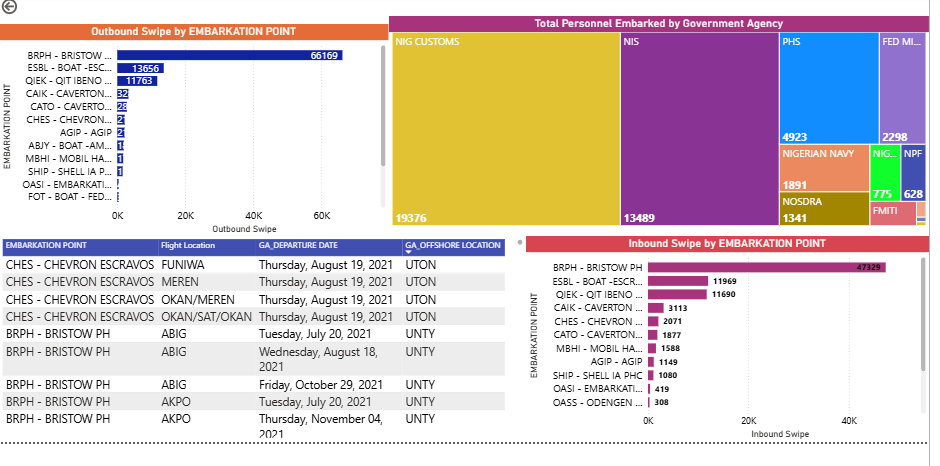

The page's visual inventory and layout, read from the dashboard file:
{"tool":"powerbi","page":{"name":"Page 2","canvas":[1502,720],"ordinal":1},"visuals":[{"type":"treemap","title":"Total Personnel Embarked by Government Agency","fields":{"Group":["Master.GOVERNMENT AGENCY"],"Values":["Sum(Master.Total Personnel Embarked)"]},"box":[629.5,33.1,872.3,343.5],"z":0},{"type":"actionButton","box":[0,0,68.7,33.6],"z":2000},{"type":"clusteredBarChart","fields":{"Category":["Master.EMBARKATION POINT"],"Y":["Sum(Master.Outbound Swipe)"]},"box":[0,44.6,629.5,343.5],"z":3000},{"type":"tableEx","fields":{"Values":["Master.EMBARKATION POINT","Master.Flight Location","Master.GA_DEPARTURE DATE ","Master.GA_OFFSHORE LOCATION"]},"box":[0,387.6,851.1,331.1],"z":4000},{"type":"clusteredBarChart","fields":{"Category":["Master.EMBARKATION POINT"],"Y":["Sum(Master.Inbound Swipe)"]},"box":[851.1,387.6,650.9,332.7],"z":5000}]}

Visuals, with their boxes on the page's 1502x720 design canvas (x1, y1, x2, y2). These are canvas units, not pixel positions in the 940x466 screenshot, which may show the page scaled, cropped or inside an application window:
"Total Personnel Embarked by Government Agency" treemap: (left=630, top=33, right=1502, bottom=377)
actionButton: (left=0, top=0, right=69, bottom=34)
clusteredBarChart - Master.EMBARKATION POINT x Sum(Master.Outbound Swipe): (left=0, top=45, right=630, bottom=388)
tableEx - Master.EMBARKATION POINT x Master.Flight Location: (left=0, top=388, right=851, bottom=719)
clusteredBarChart - Master.EMBARKATION POINT x Sum(Master.Inbound Swipe): (left=851, top=388, right=1502, bottom=720)
